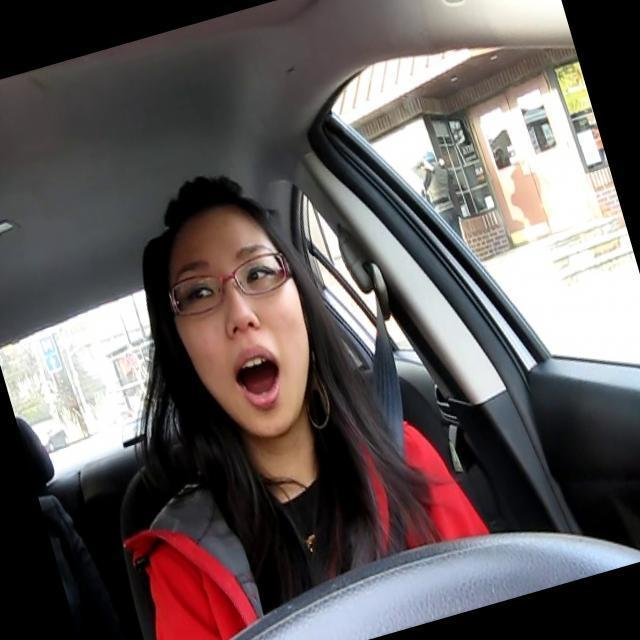open-mouth: (233, 347, 282, 410)
